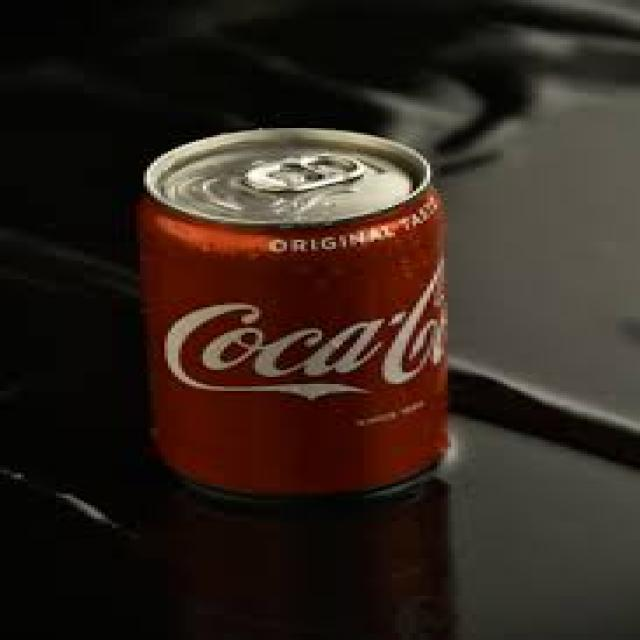Cans: (136, 114, 462, 505)
